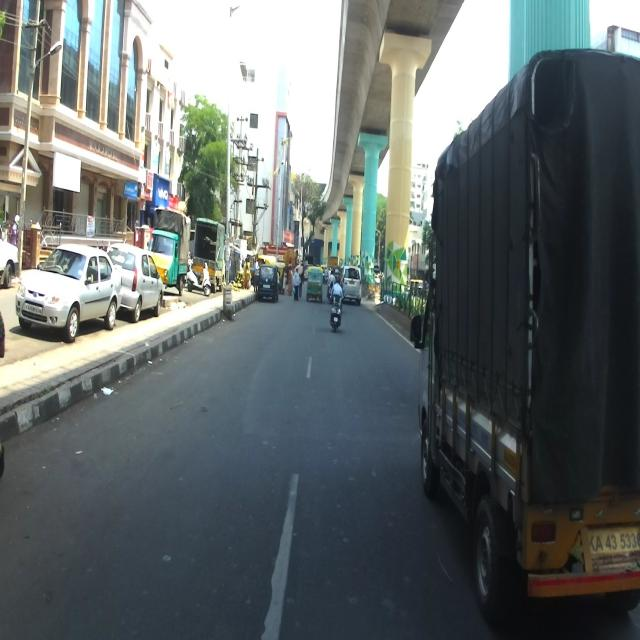car: (15, 240, 123, 343), (107, 242, 162, 324), (256, 264, 279, 302), (341, 265, 361, 305)
truck: (409, 46, 640, 628)
